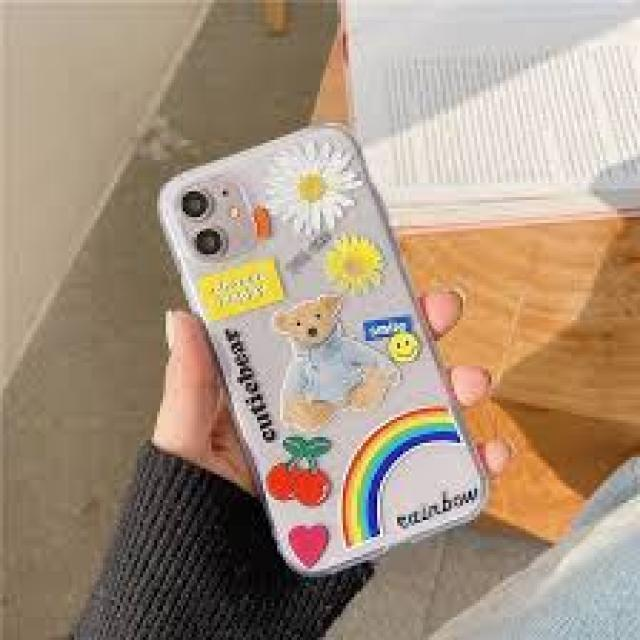phone: (157, 121, 492, 580)
